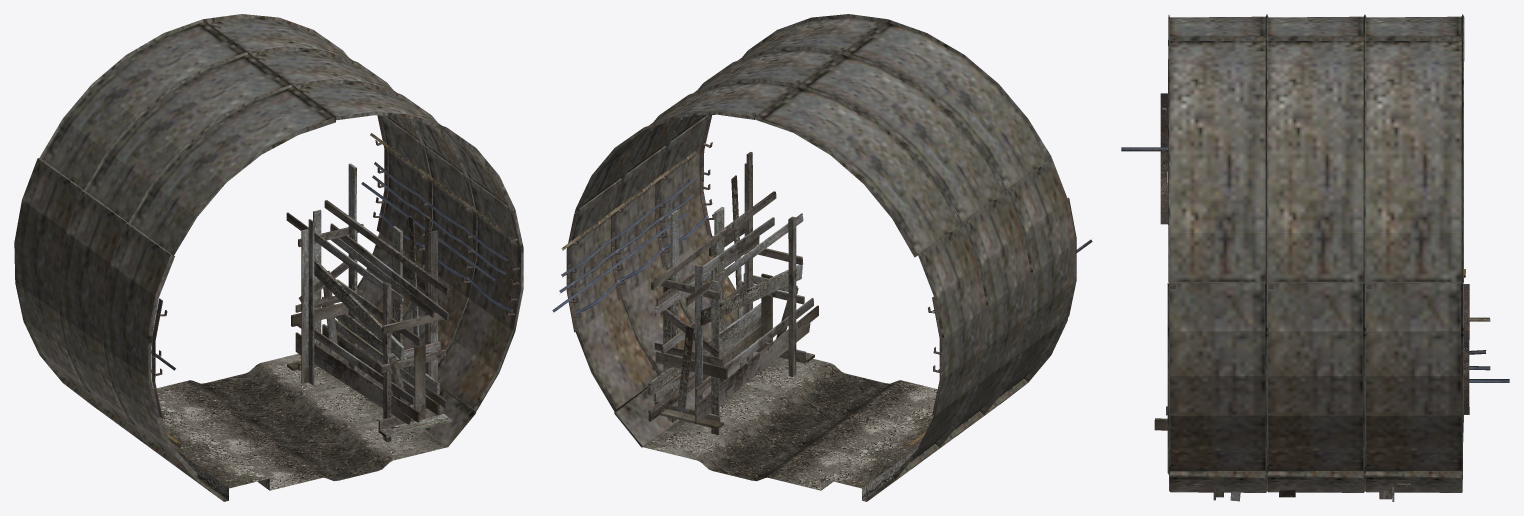
File: tunnel_beton_derevo1.obj
3 views of the same model, side by side, from view 1: azimuth 30°, elevation 25°; view 2: azimuth 150°, elevation 25°; view 3: azimuth 270°, elevation 25° (orthographic). The views are drawn at different scales.
Visible parts, largest first — view 1: concrete_tile_07, concrete_tile_008, concrete_tile_009, wood_boards, floor_tunnel_pod, floor_tunnel_pod001, floor_tunnel_pod002, metal_corr_dsc, metal_trub_tonnel, metal_trub_tonnel002, metal_trub_tonnel001, metal_corr_dsc003; view 2: concrete_tile_009, concrete_tile_008, concrete_tile_07, wood_boards, floor_tunnel_pod002, floor_tunnel_pod001, floor_tunnel_pod, metal_trub_tonnel002, metal_corr_dsc003, metal_trub_tonnel, metal_trub_tonnel001, metal_corr_dsc (+1 smaller); view 3: concrete_tile_07, concrete_tile_008, concrete_tile_009, metal_corr_dsc, metal_corr_dsc003, wood_boards, metal_trub_tonnel002.
Part boxes in pixels (box(x1,y1,x2,y2)): concrete_tile_07: box(103, 79, 523, 501); concrete_tile_008: box(58, 46, 477, 468); concrete_tile_009: box(14, 14, 432, 435); wood_boards: box(286, 163, 451, 442); floor_tunnel_pod: box(185, 421, 446, 501); floor_tunnel_pod001: box(159, 385, 394, 455); floor_tunnel_pod002: box(153, 353, 346, 422); metal_corr_dsc: box(151, 213, 521, 419); metal_trub_tonnel: box(151, 118, 513, 448); metal_trub_tonnel002: box(361, 133, 424, 247); metal_trub_tonnel001: box(405, 165, 469, 280); metal_corr_dsc003: box(373, 115, 388, 232); concrete_tile_009: box(570, 79, 986, 501); concrete_tile_008: box(615, 46, 1031, 468); concrete_tile_07: box(659, 14, 1075, 435); wood_boards: box(648, 152, 818, 435); floor_tunnel_pod002: box(644, 420, 905, 501); floor_tunnel_pod001: box(710, 385, 932, 455); floor_tunnel_pod: box(744, 357, 937, 422); metal_trub_tonnel002: box(552, 117, 939, 450); metal_corr_dsc003: box(566, 211, 942, 416); metal_trub_tonnel: box(641, 151, 1092, 252); metal_trub_tonnel001: box(597, 183, 664, 282); metal_corr_dsc: box(699, 115, 1076, 316); concrete_tile_07: box(1167, 14, 1268, 492); concrete_tile_008: box(1265, 14, 1366, 492); concrete_tile_009: box(1363, 14, 1464, 492); metal_corr_dsc: box(1160, 93, 1175, 414); metal_corr_dsc003: box(1464, 284, 1469, 414); wood_boards: box(1154, 406, 1410, 501); metal_trub_tonnel002: box(1464, 269, 1509, 382).
Bounding box in the file's own units: 8.92 × 8.26 × 7.22.
Materials: 7 (7 with a texture image).
